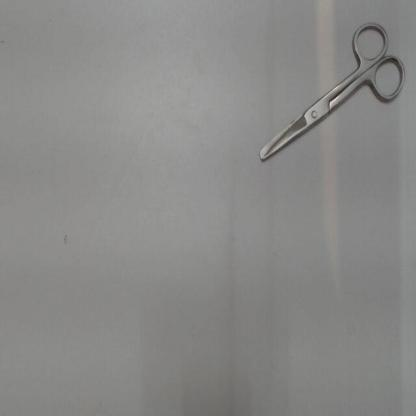Dressing Scissors: (246, 9, 412, 170)
